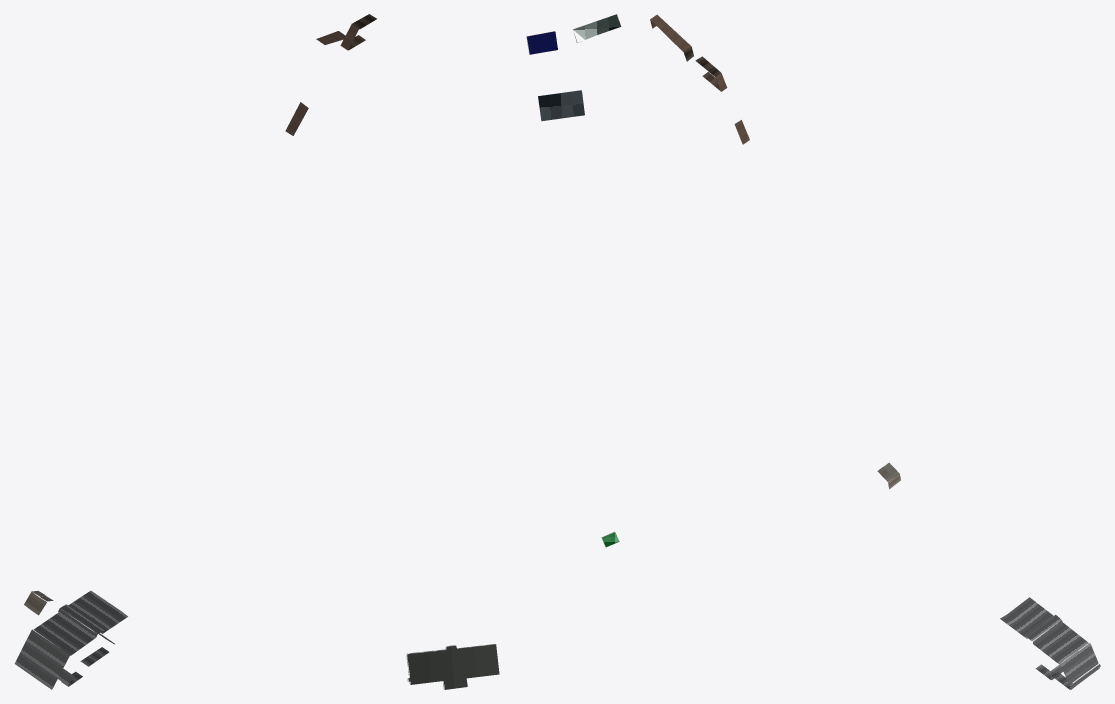
The model's file is tile_LOD3_r4_c4.glb.
3 views of the same model, side by side, from view 1: azimuth 30°, elevation 25°; view 2: azimuth 150°, elevation 25°; view 3: azimuth 270°, elevation 25° (orthographic). The views are drawn at different scales.
Size of the model in its own units: 96.51 by 307 by 190.
16 materials, 15 textured.
